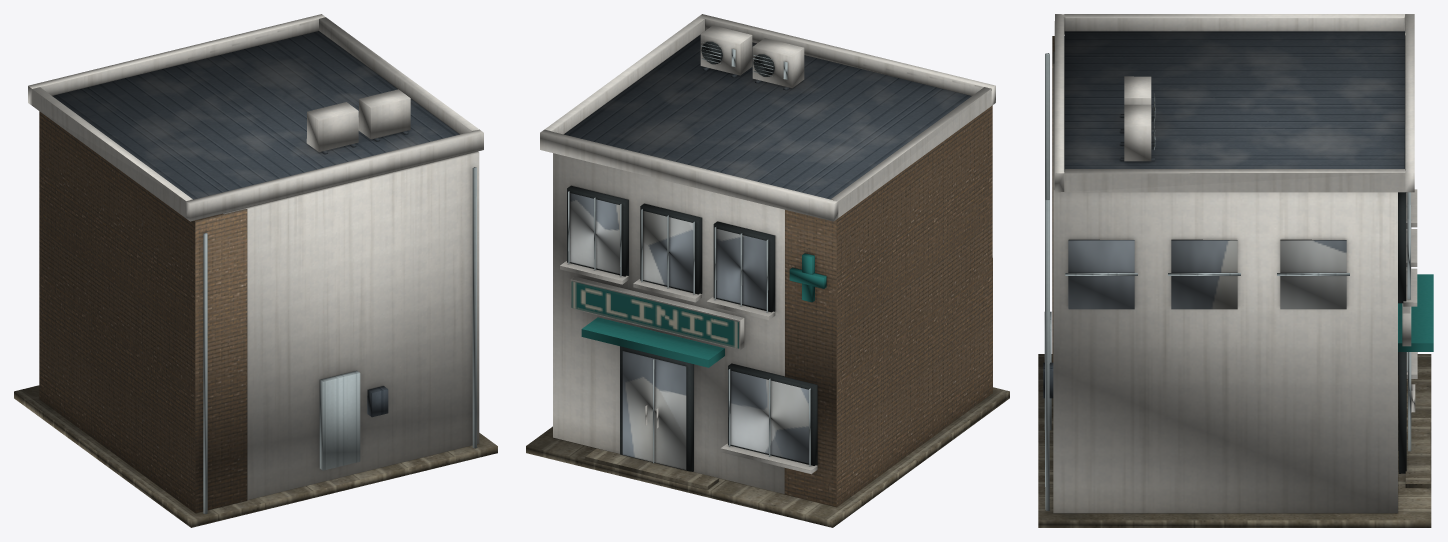
The model's file is public_001.lod1.obj.
3 renders of one model, left to right at view 1: azimuth 30°, elevation 25°; view 2: azimuth 150°, elevation 25°; view 3: azimuth 270°, elevation 25°, orthographic. The views are drawn at different scales.
Visible parts, largest first — view 1: public_001; view 2: public_001; view 3: public_001.
Boxes of the visible parts, x1,y1,x2,y2 form: public_001: (14,14,497,527); public_001: (526,14,1009,527); public_001: (1038,14,1433,527).
Bounding box in the file's own units: 6.5 × 6.85 × 6.54.
Materials: 1 (1 with a texture image).
